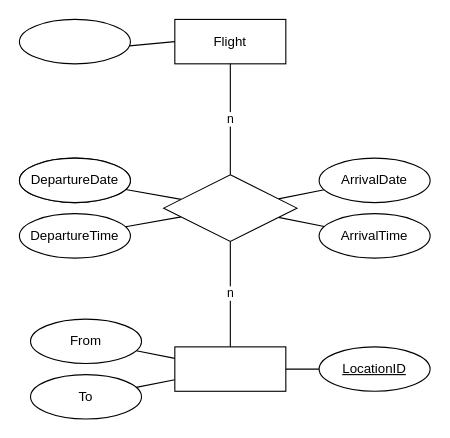
The diagram is 450 pixels wide and 438 high, and some of its shapes have lost their labels. Here are the shapes that lost their labels. From the top down, the centre of each, then its label:
At pixel 74 41: "FlightNumber".
At pixel 230 207: "Schedule".
At pixel 230 368: "Location".
